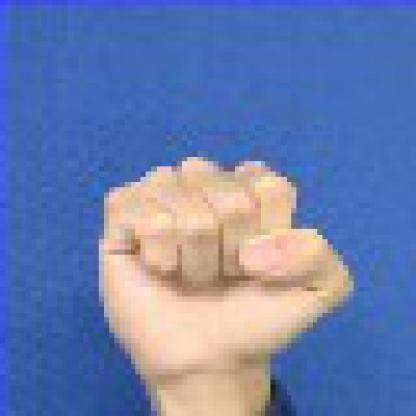zero: (56, 120, 379, 406)
